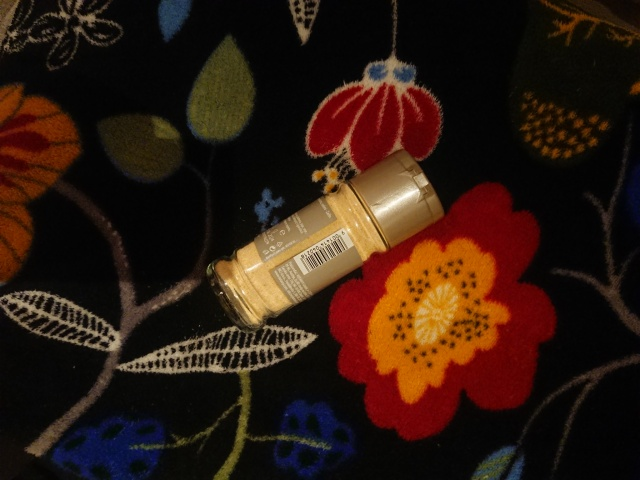Kotanyi Garlic Granules 70g: (200, 146, 447, 335)
